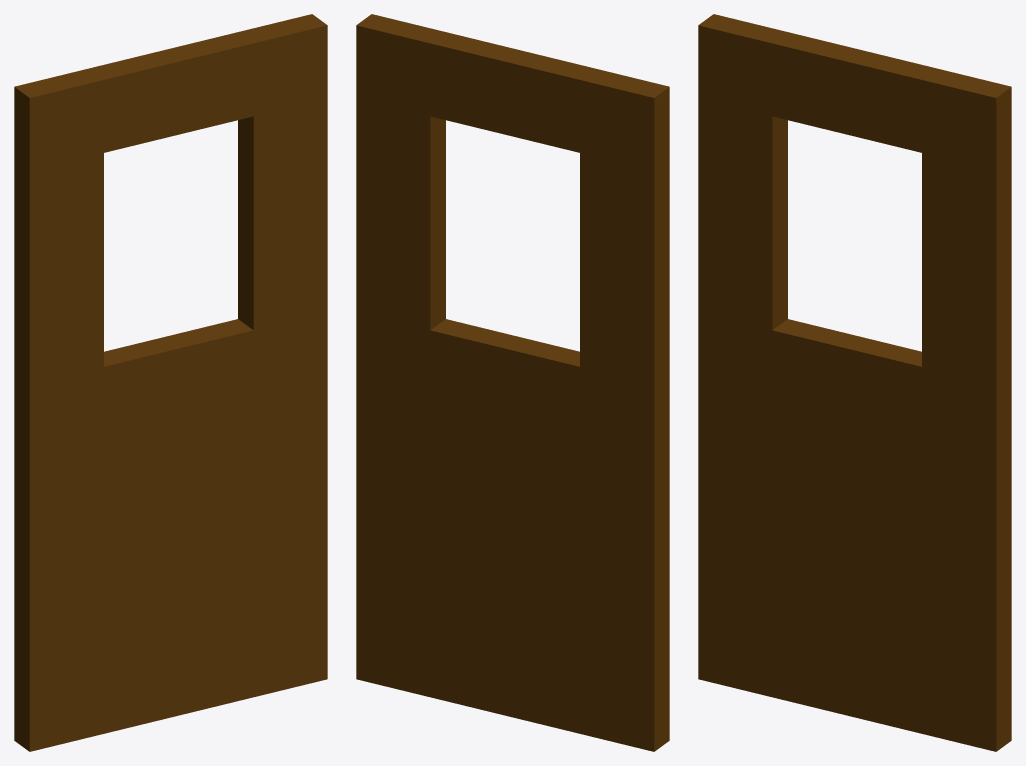
File: Door_B.obj
3 renders of one model, left to right at view 1: azimuth 30°, elevation 25°; view 2: azimuth 150°, elevation 25°; view 3: azimuth 330°, elevation 25°, orthographic.
Visible parts, largest first — view 1: Door_B; view 2: Door_B; view 3: Door_B.
Boxes of the visible parts, <box> form: Door_B: <box>14,14,327,751</box>; Door_B: <box>356,14,669,751</box>; Door_B: <box>698,14,1011,751</box>.
Bounding box in the file's own units: 0.9657 × 2.02 × 0.0871.
